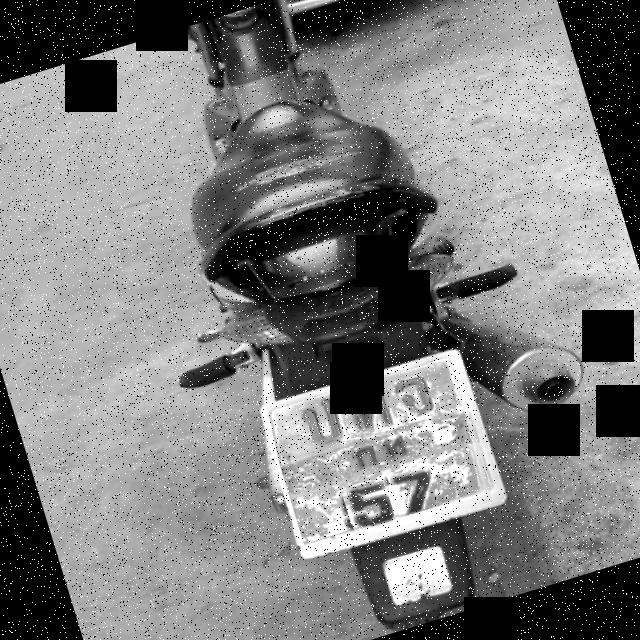letters: (288, 399, 351, 455), (386, 460, 444, 517), (341, 478, 397, 536), (348, 376, 400, 434), (399, 358, 442, 418)
license-plate: (265, 352, 495, 549)
province: (332, 418, 441, 488)
